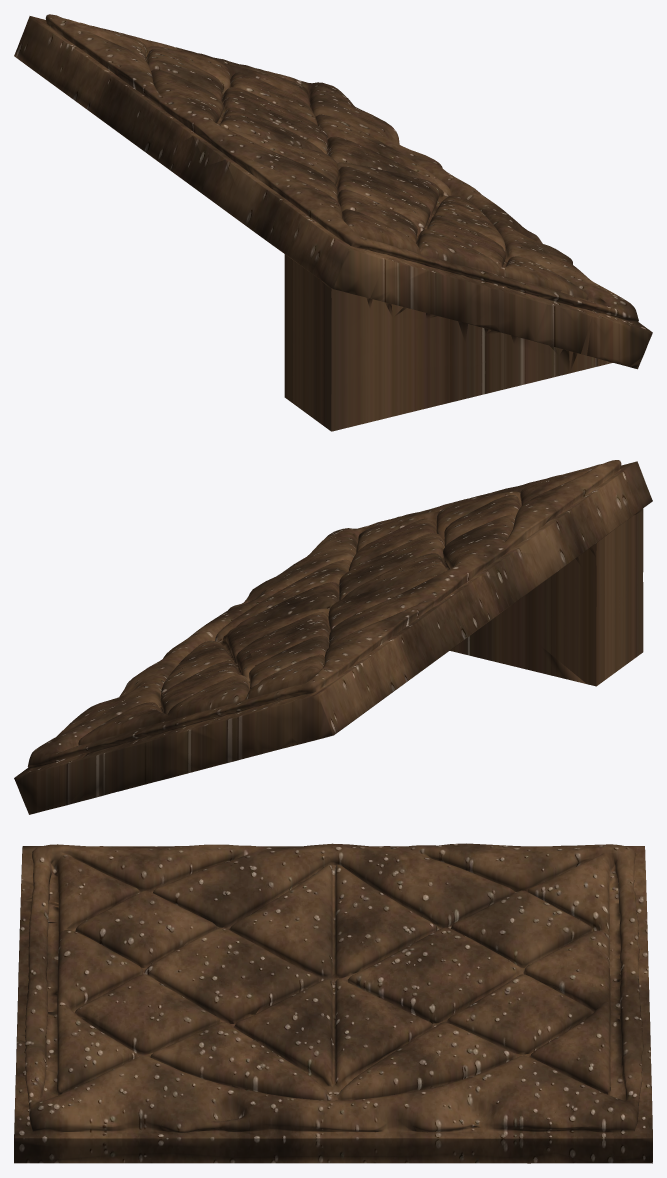
The model's file is grass.glb.
3 renders of one model, top to bottom at view 1: azimuth 30°, elevation 25°; view 2: azimuth 150°, elevation 25°; view 3: azimuth 270°, elevation 25°, orthographic. The views are drawn at different scales.
Parts seen in each view (by area): view 1: tripo_node_f6238c1c-ed54-4281-ad2d-1f8facd3783a; view 2: tripo_node_f6238c1c-ed54-4281-ad2d-1f8facd3783a; view 3: tripo_node_f6238c1c-ed54-4281-ad2d-1f8facd3783a.
Boxes of the visible parts, box(x1,y1,x2,y2) form: tripo_node_f6238c1c-ed54-4281-ad2d-1f8facd3783a: box(14, 14, 652, 431); tripo_node_f6238c1c-ed54-4281-ad2d-1f8facd3783a: box(14, 460, 652, 814); tripo_node_f6238c1c-ed54-4281-ad2d-1f8facd3783a: box(14, 843, 652, 1163).
Size of the model in its own units: 0.9659 by 0.5619 by 1.72.
1 material, 1 textured.
